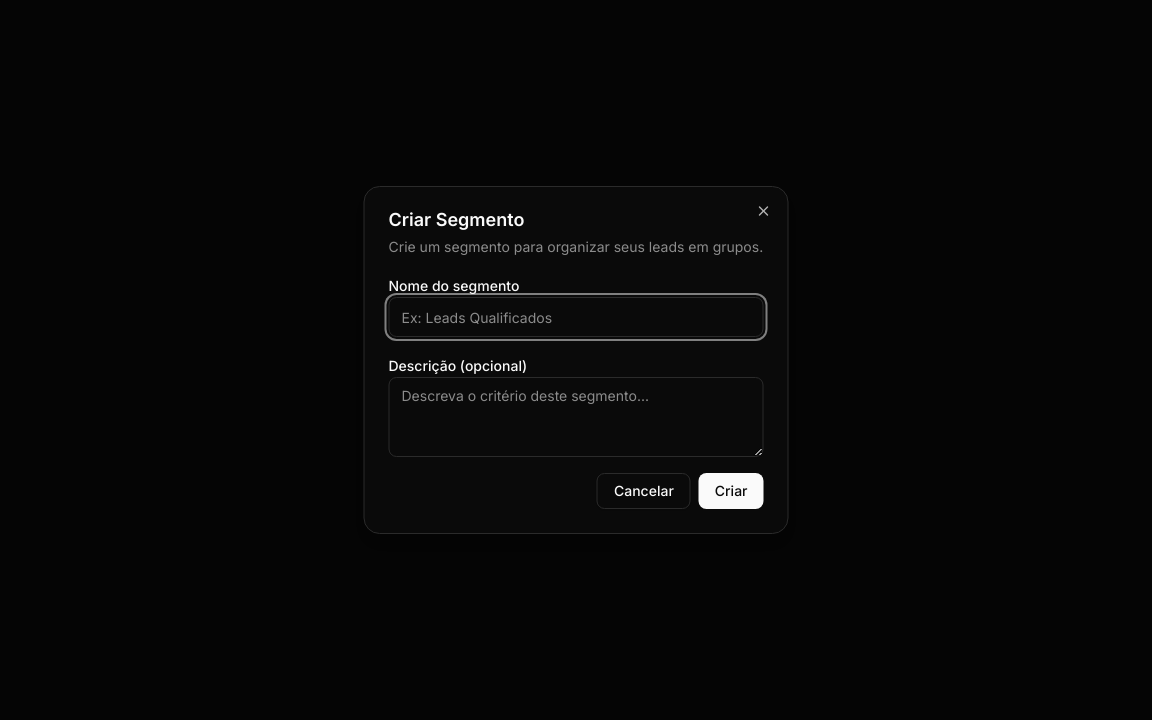
it: CreateSegmentDialog › Validation (AC: #1) › shows error when name is empty on submit
This screenshot has width=1152, height=720.
Click the button with test id "create-segment-submit" at [731, 491], box [699,473,764,509]
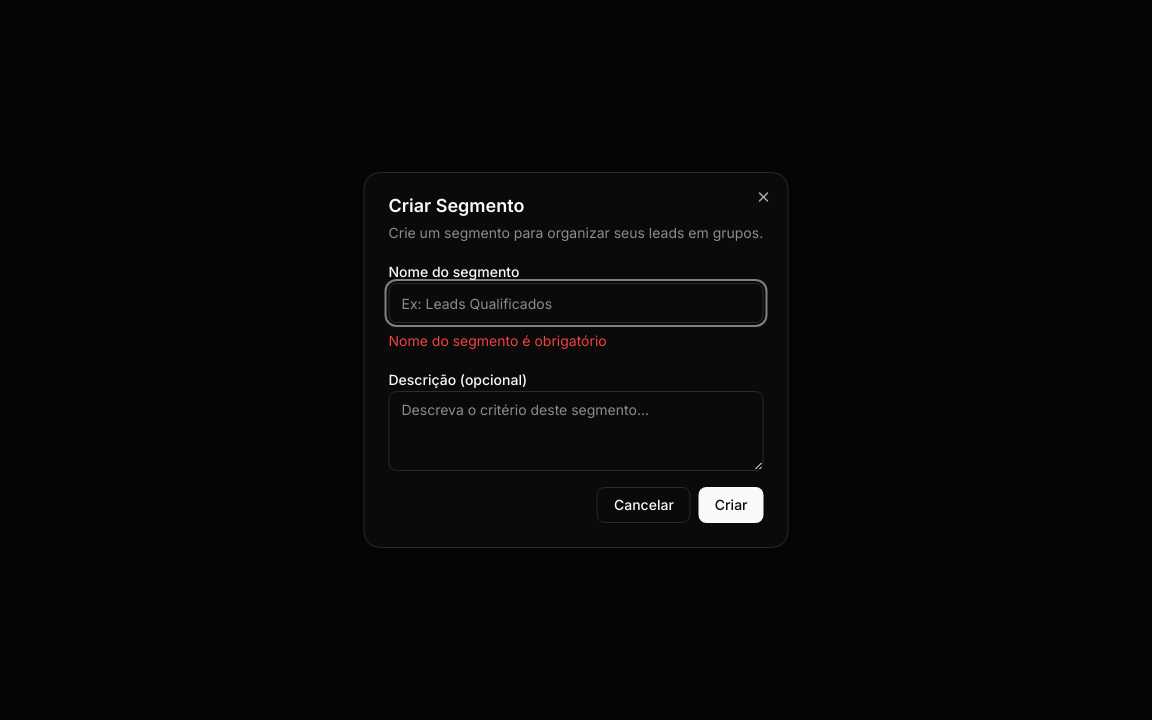
Check: the text "Nome do segmento é obrigatório" is shown, box [388,332,607,349]
